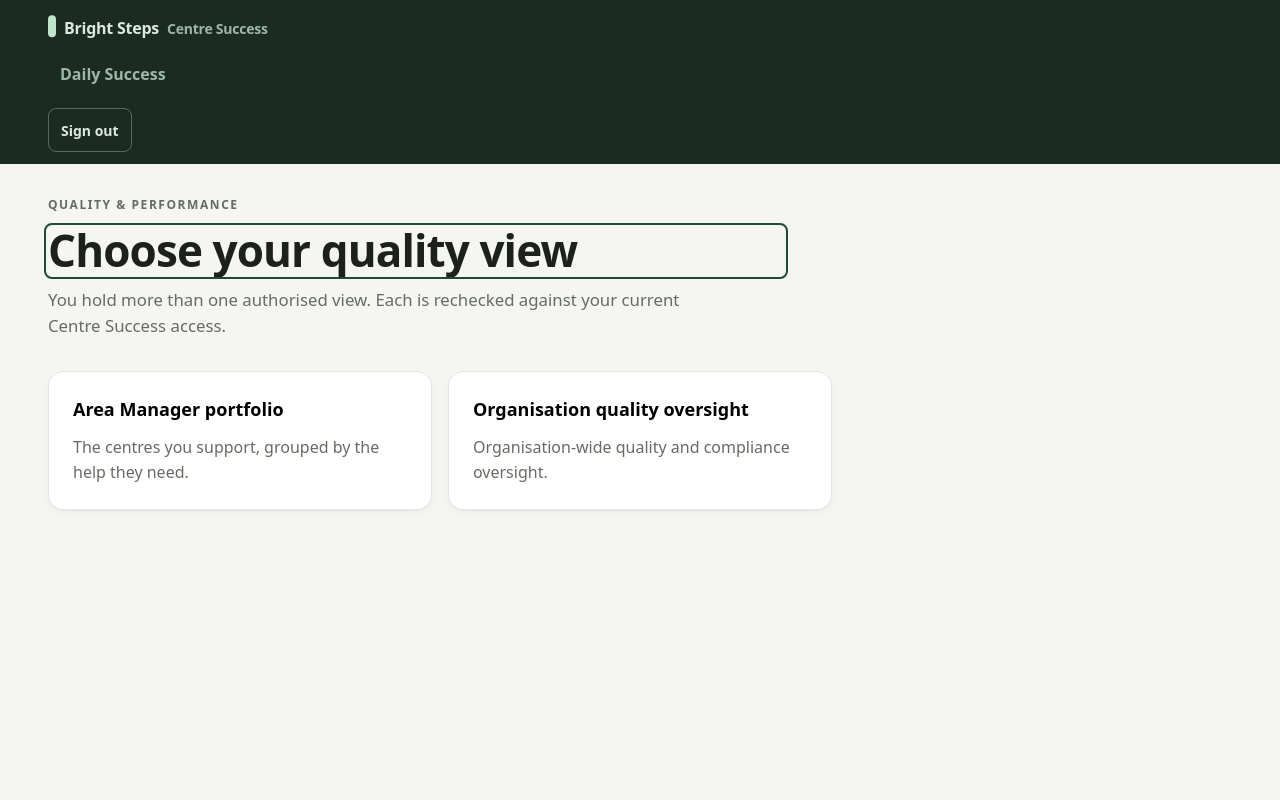
Test: Quality & Performance workspace › lets a multi-view principal choose, and remembers the choice for the session
The width and height of the screenshot is (1280, 800).
What coordinates should you click on to do the following:
click the button "Area Manager portfolio"
I would click on:
 (240, 440)
Its box is [48, 371, 432, 510].
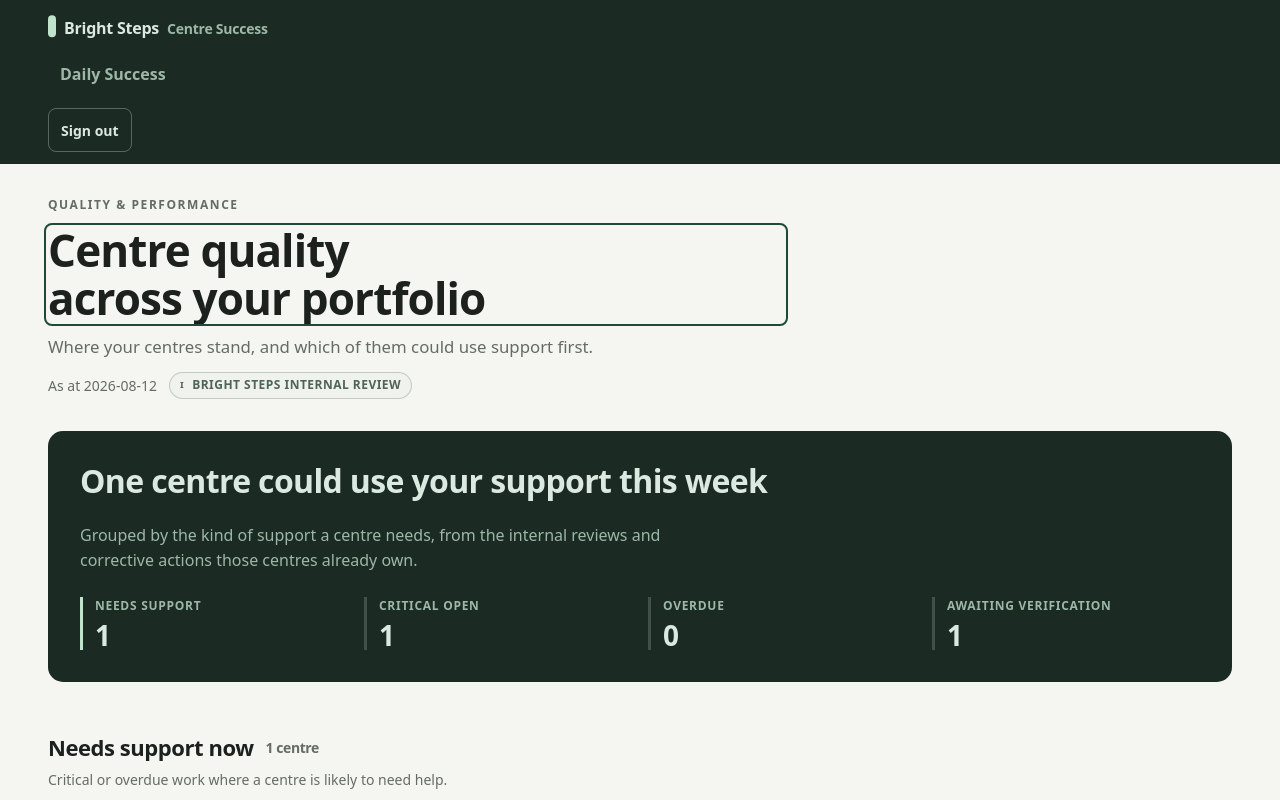
Check: the heading "Centre quality across your portfolio" is shown, box [48, 220, 485, 328]
